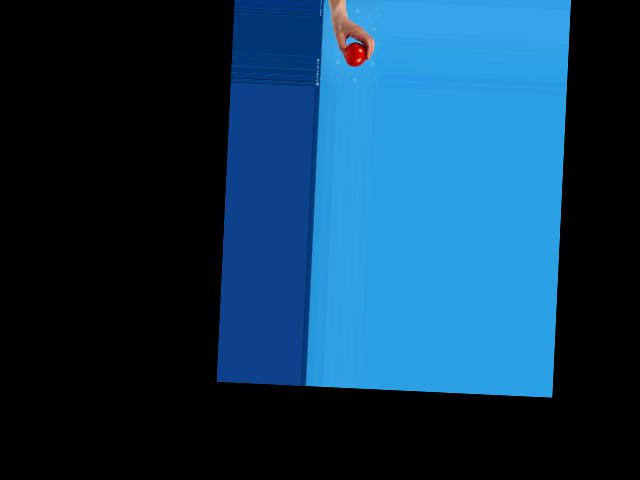tomato: (344, 41, 366, 66)
